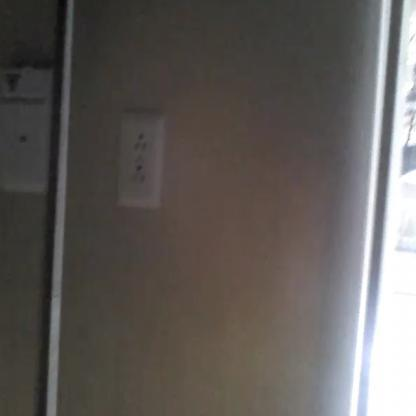OUTLET: (116, 108, 166, 209)
